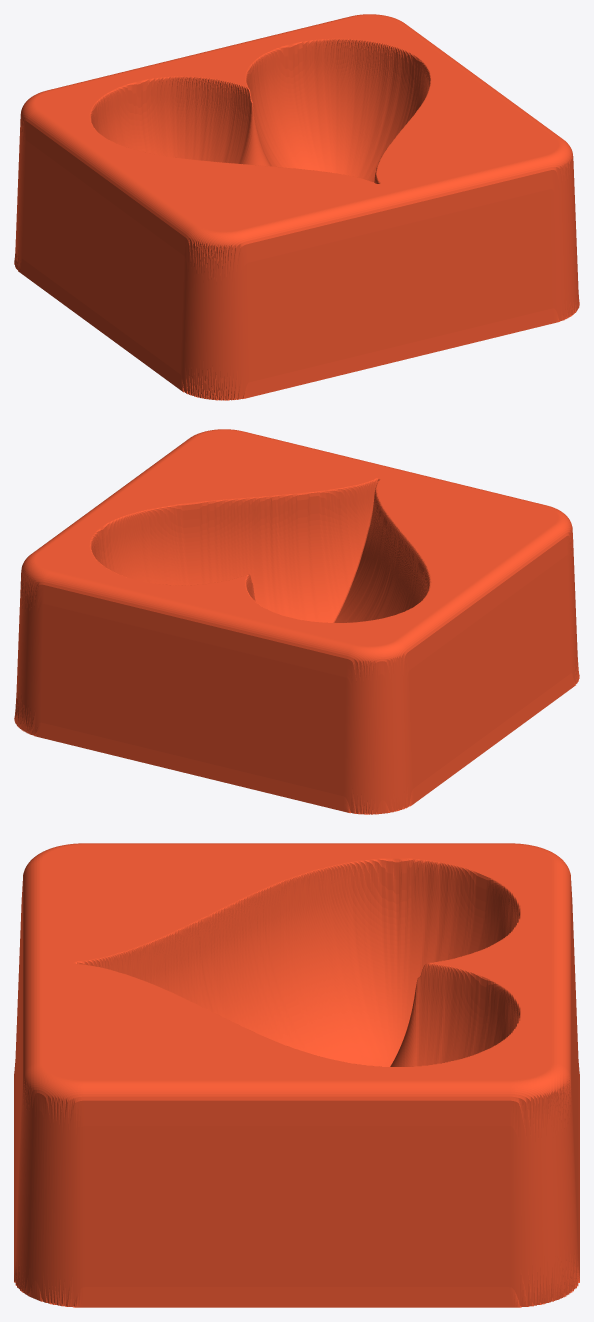
The model's file is mold.glb.
The picture shows the model from 3 angles, top to bottom: view 1: azimuth 30°, elevation 25°; view 2: azimuth 150°, elevation 25°; view 3: azimuth 270°, elevation 25°; orthographic projection. The views are drawn at different scales.
Visible parts, largest first — view 1: geometry_0; view 2: geometry_0; view 3: geometry_0.
Part boxes in pixels (x1,y1,x2,y2): geometry_0: (14, 14, 579, 400); geometry_0: (14, 429, 579, 814); geometry_0: (14, 843, 579, 1307).
Bounding box in the file's own units: 0.0798 × 0.031 × 0.0738.
